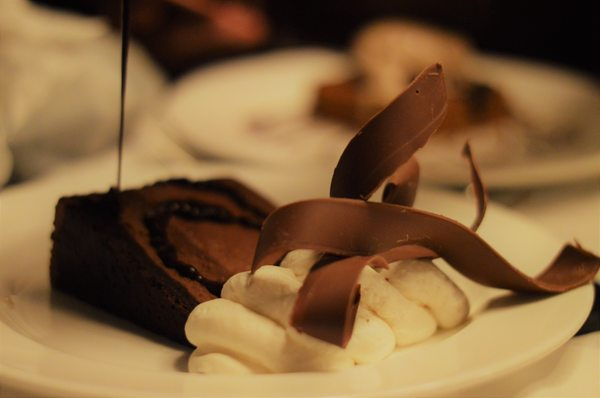salad: (328, 61, 450, 201)
